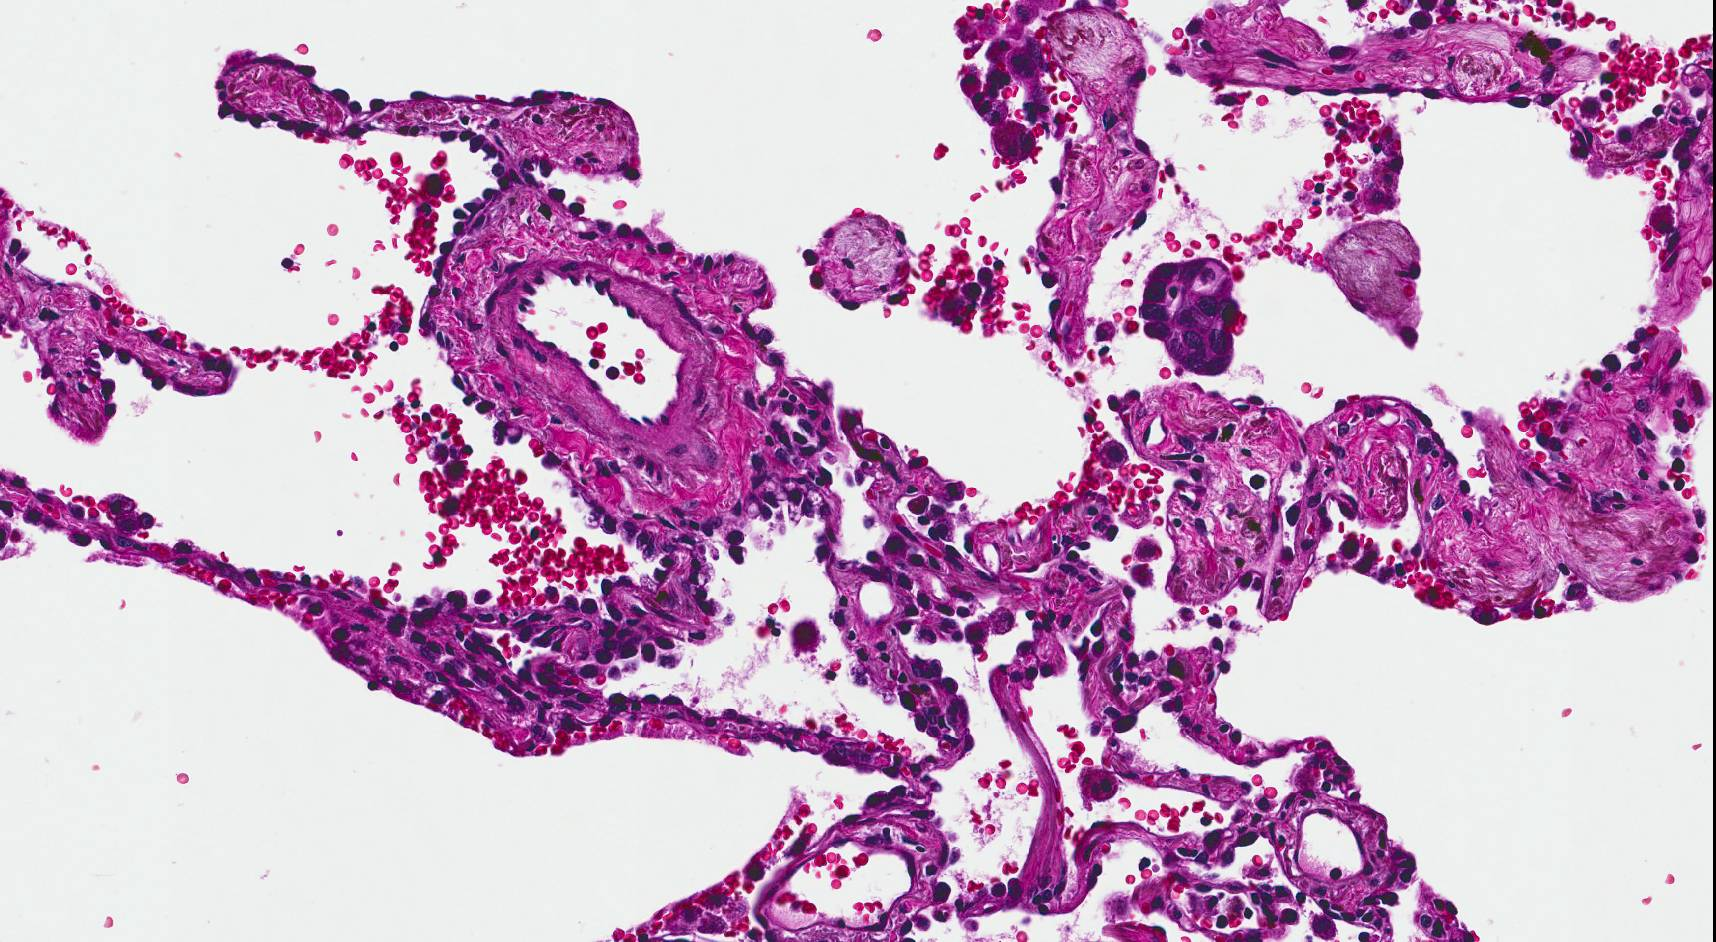stas: (1142, 256, 1239, 379)
